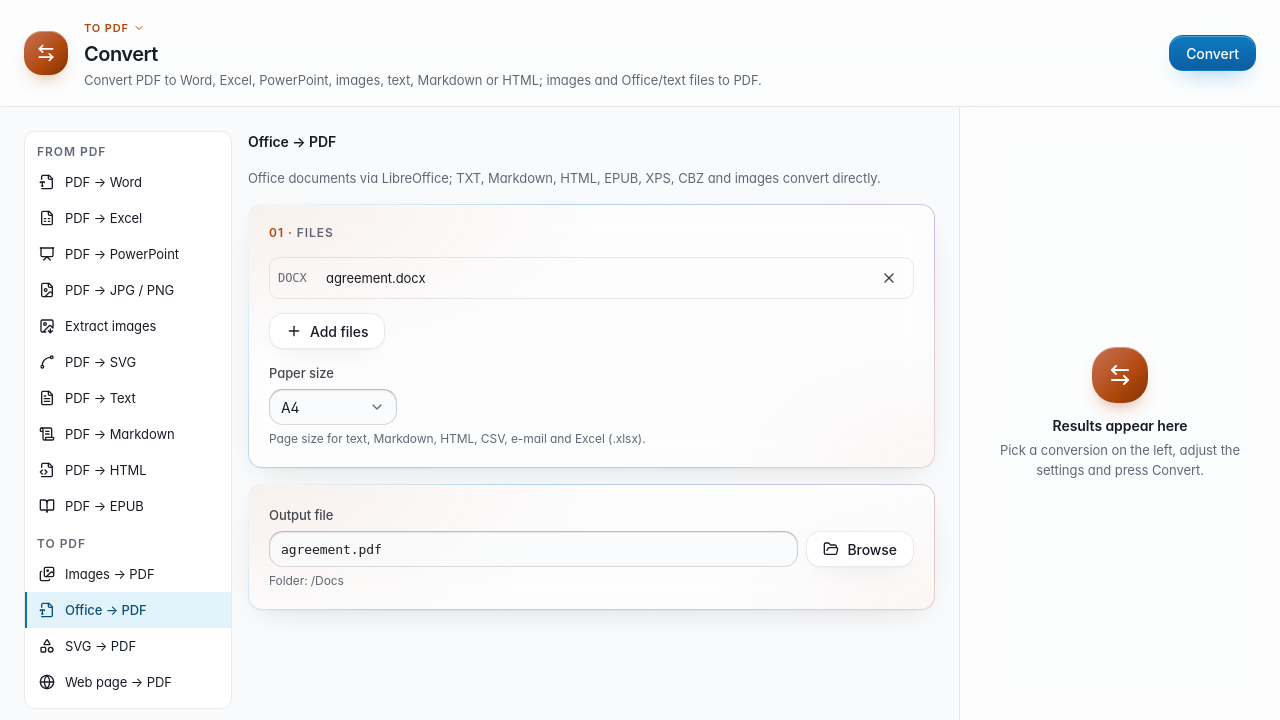
Scenario: ConvertPage result summary › names a single page in the singular
The image size is (1280, 720).
What coordinates should you click on to do the following:
click the button "Convert"
I would click on:
 (1213, 53)
Its box is [1169,35,1256,71].
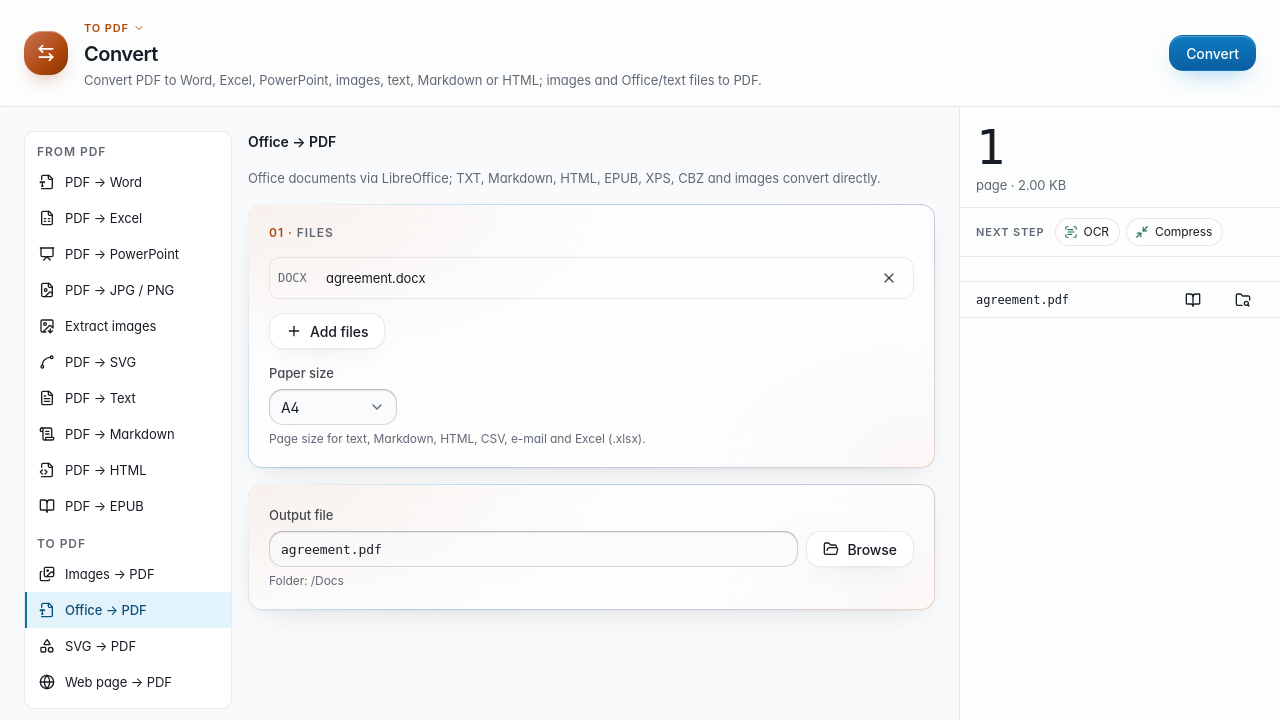
Expected: the text "page · 2.00 KB" is shown, [976,177,1066,193]
